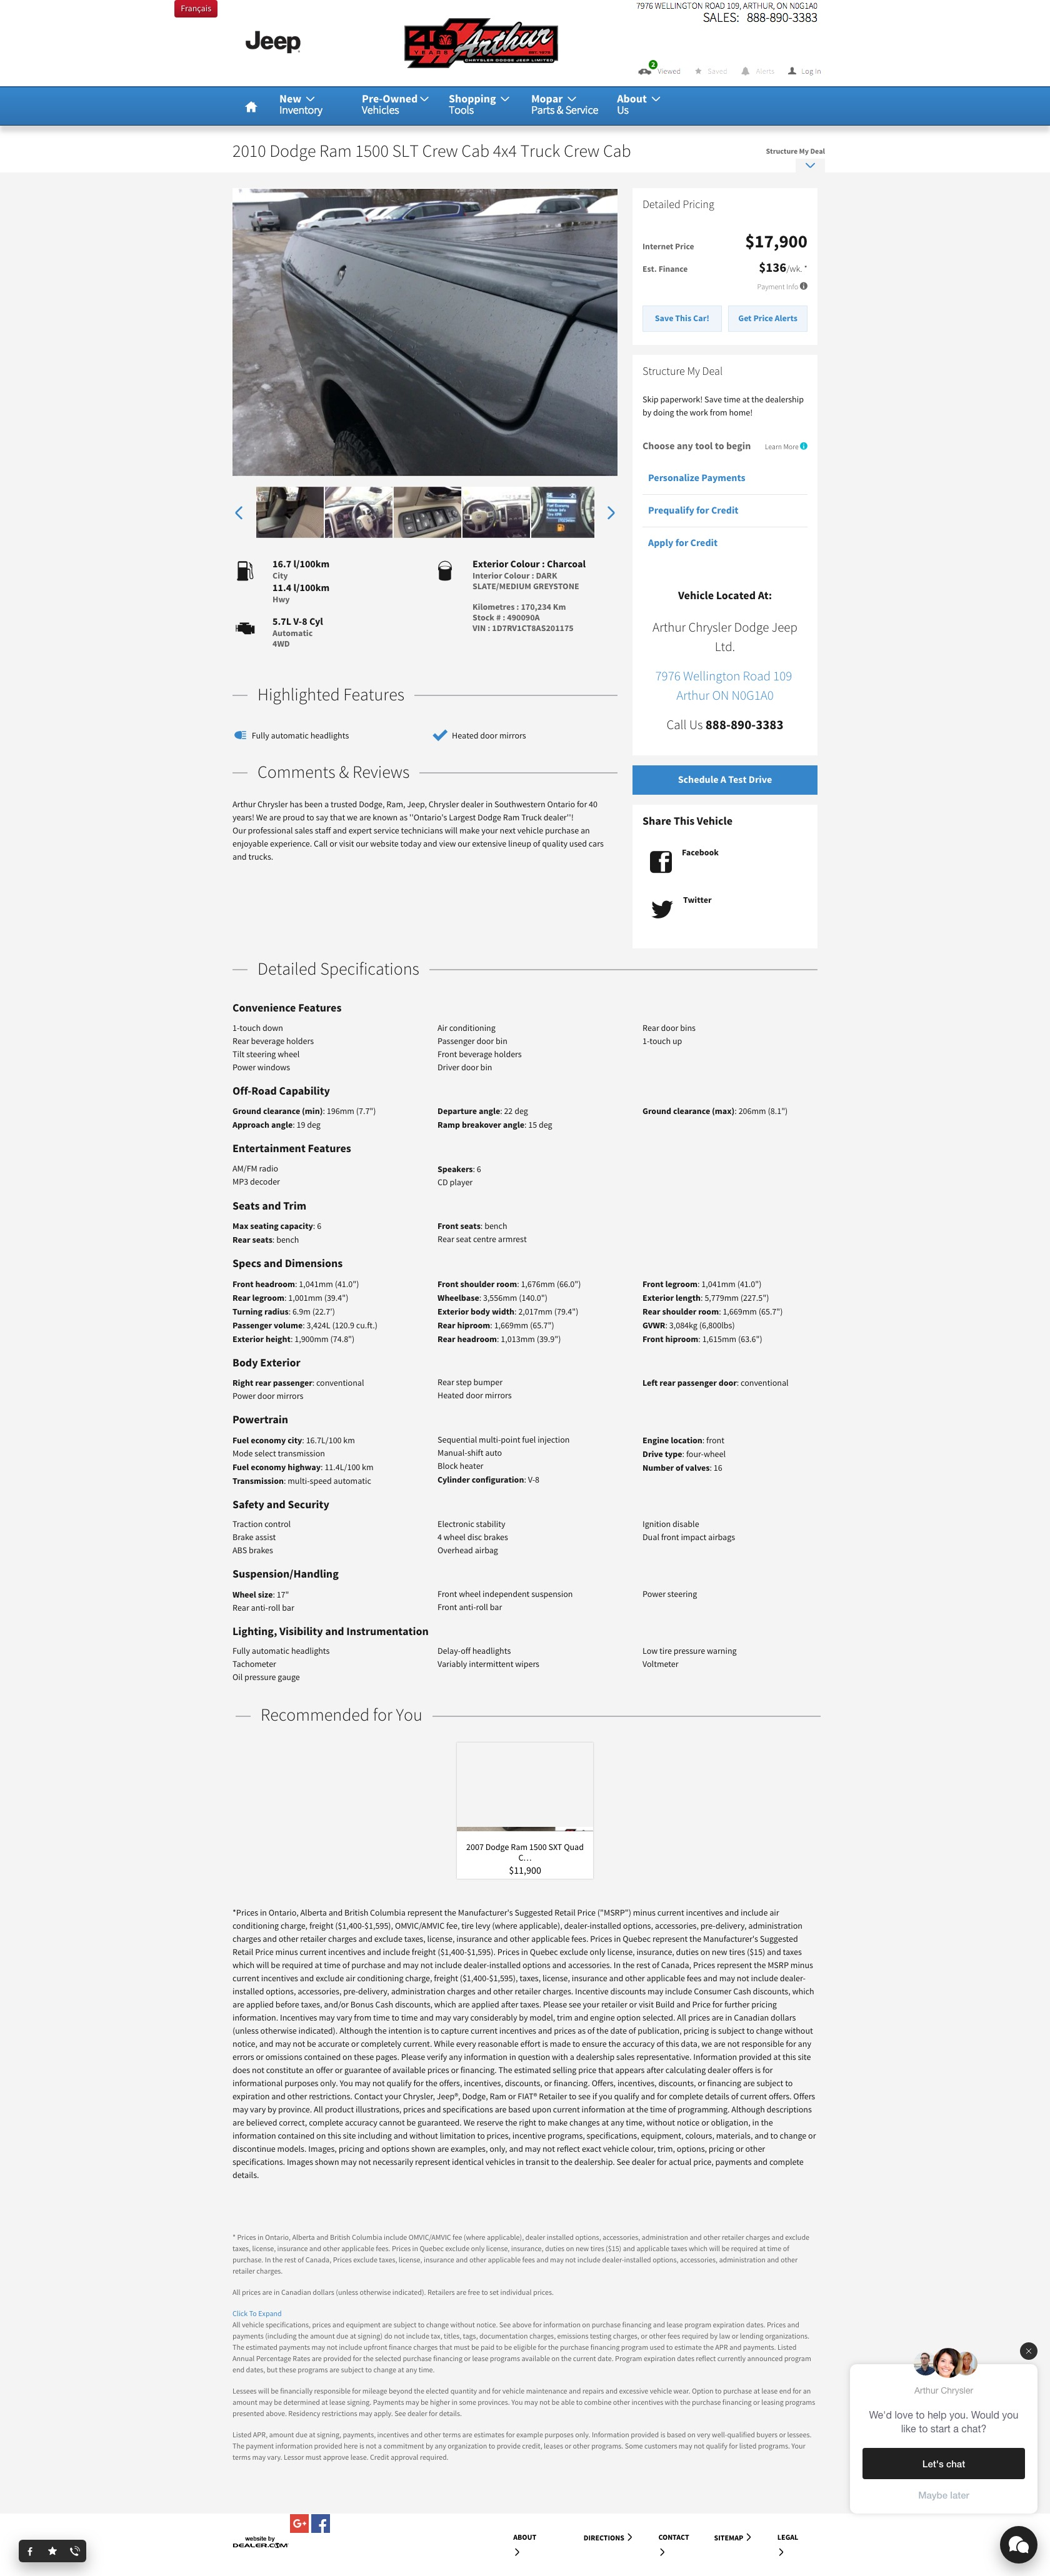car: (606, 504, 616, 522)
